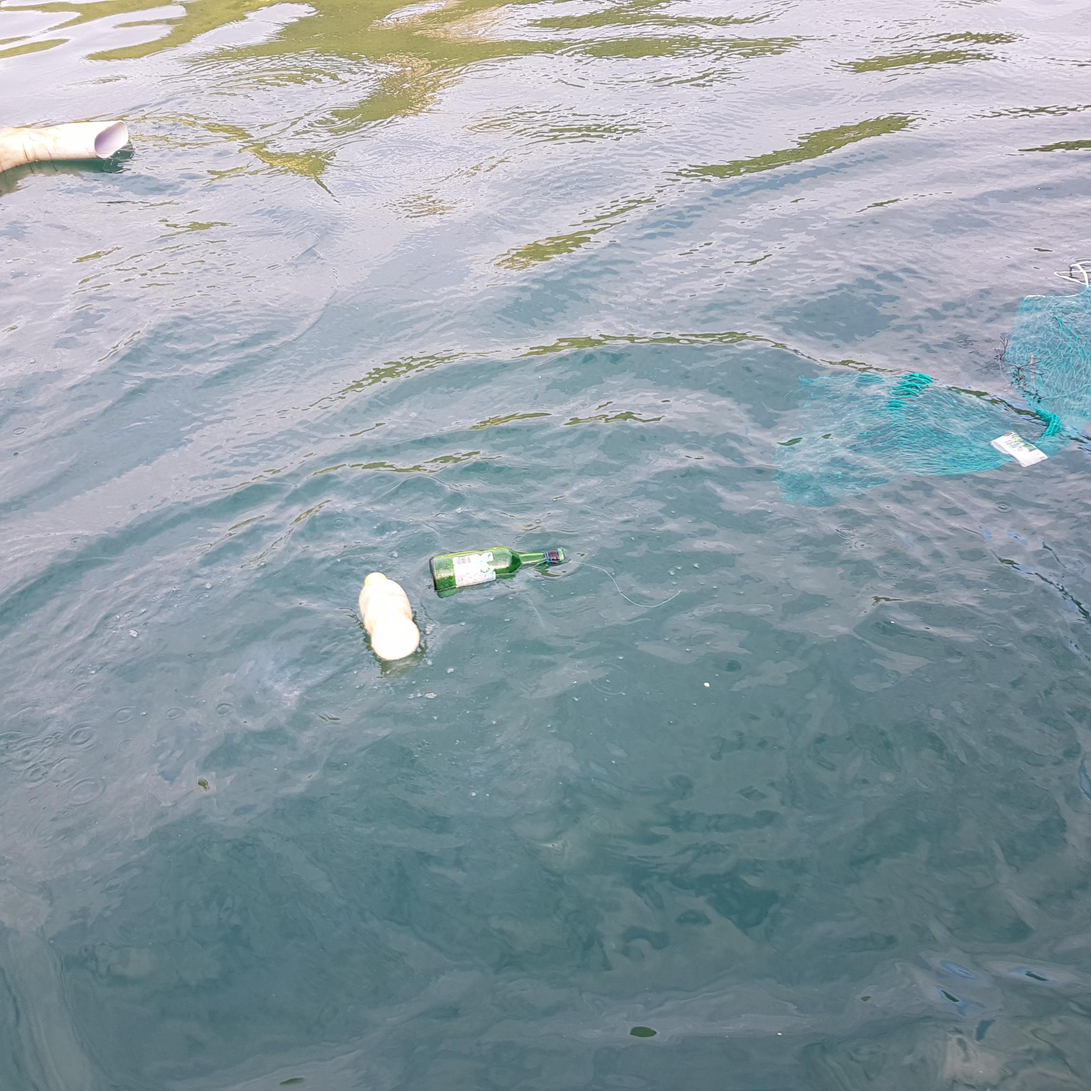sampah_terapung: (772, 289, 1091, 507), (429, 547, 565, 593), (359, 572, 420, 660), (1054, 260, 1091, 289)
